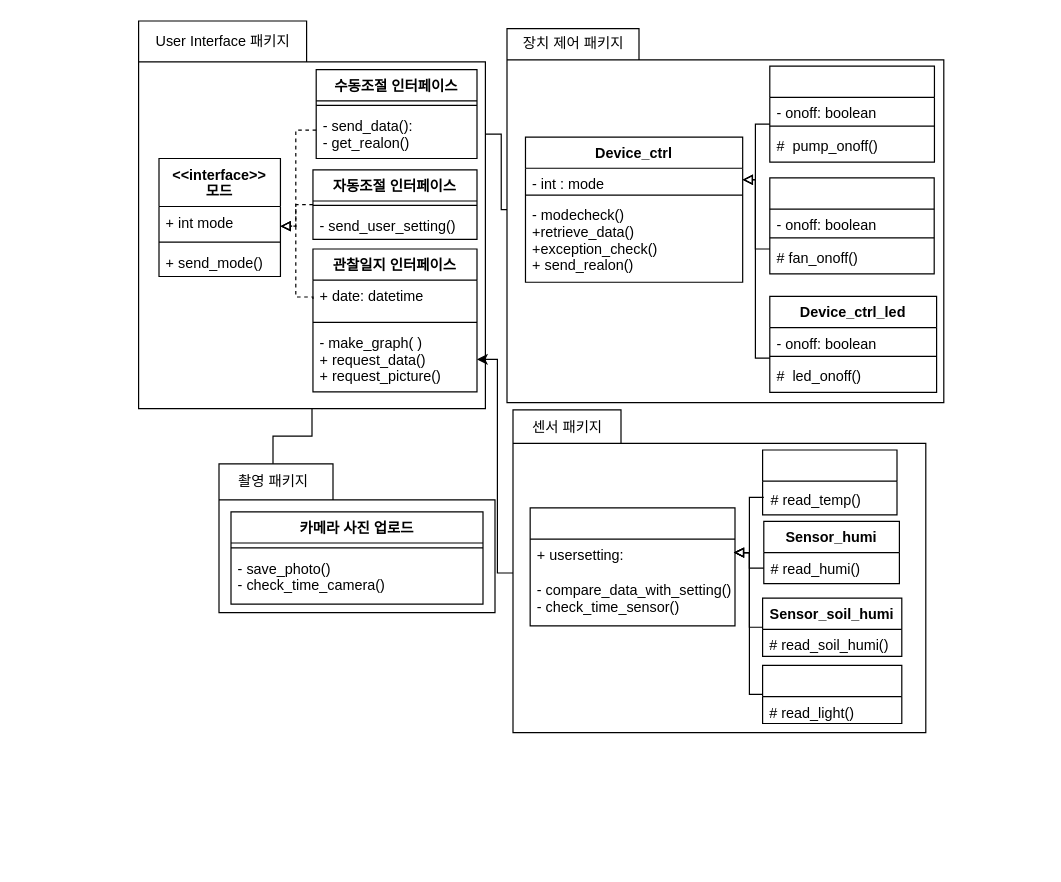
This 1061x882 diagram has some shape labels left out. Here are the shapes that lost their labels. From the top down, the box of each, then its label:
(769, 65, 934, 162): Device_ctrl_pump
(769, 177, 934, 274): Device_ctrl_fan
(761, 449, 897, 515): Sensor_temp
(529, 507, 735, 626): Sensor_data
(761, 664, 902, 723): Sensor_light
